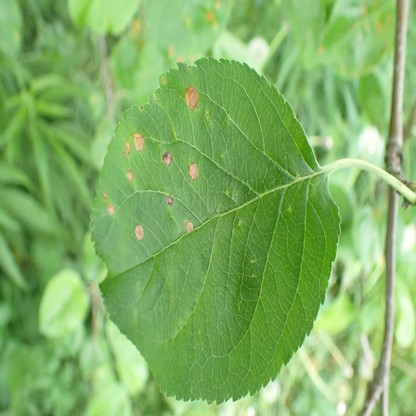frogeye_leaf_spot: (185, 86, 199, 110), (133, 134, 144, 151), (189, 163, 199, 180), (134, 224, 144, 240), (162, 151, 171, 166), (123, 142, 130, 157), (107, 203, 115, 214), (165, 196, 173, 207), (186, 222, 194, 232), (126, 170, 132, 181), (102, 190, 108, 199)
